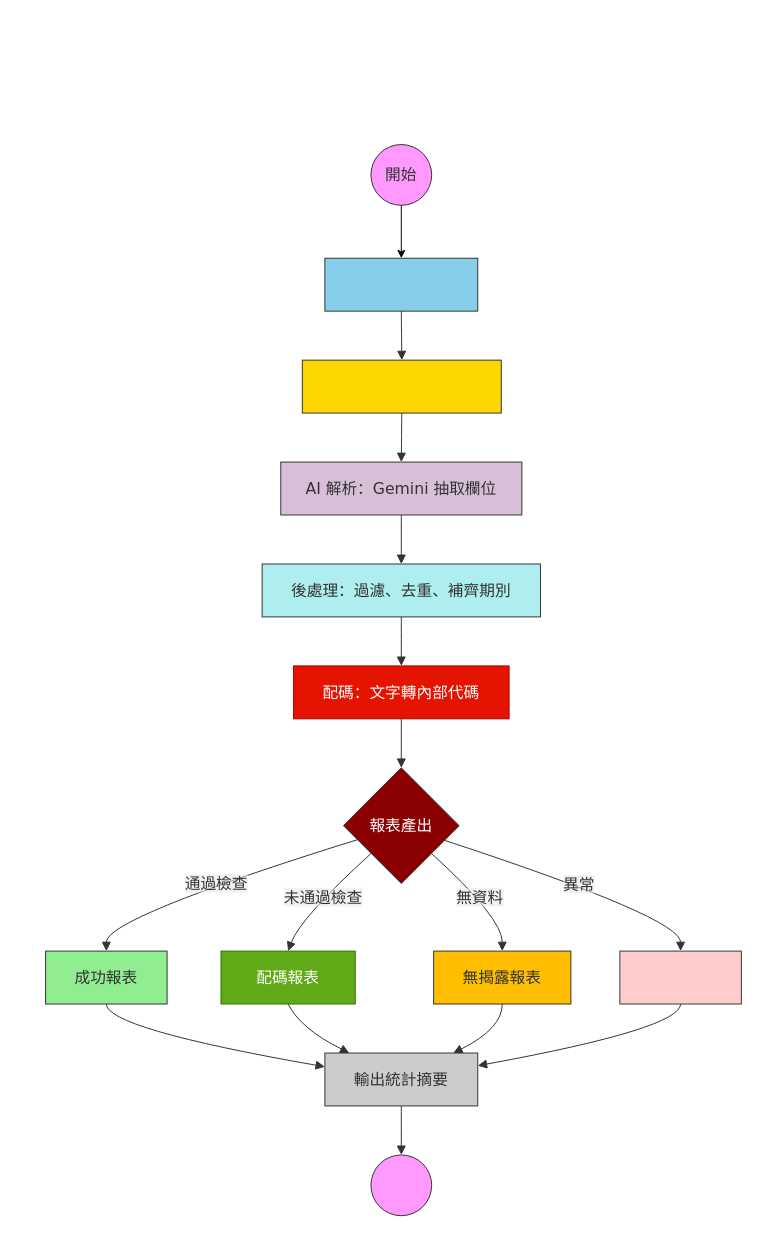
Some shapes in this 759 by 1233 pixel diagram are drawn without their labels. The shapes that lost their labels are listed below. From the top down, each one's centre as x and y in pixels, then its label:
point 401,284: 下載財報 PDF
point 401,386: 拆頁：正則/GenAI比對
point 680,977: 失敗
point 401,1185: 結束
